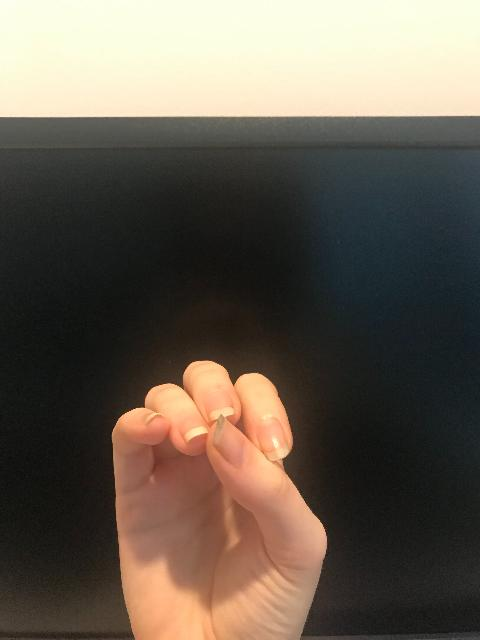O: (104, 354, 332, 640)
